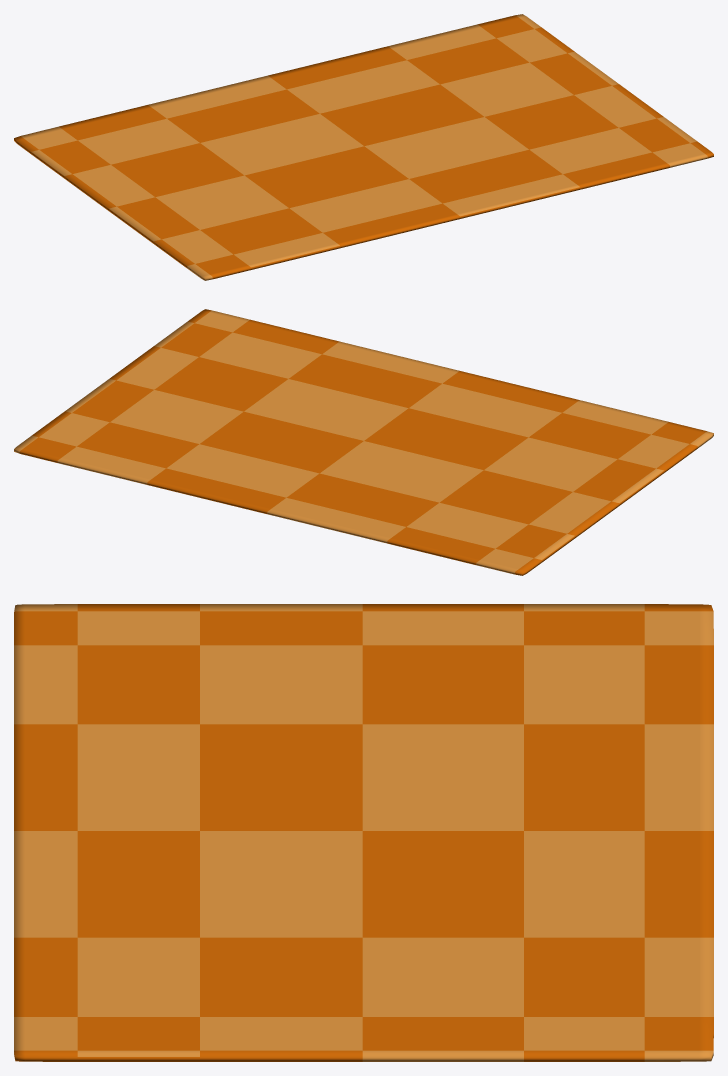
The model's file is Rug.fbx.
3 views of the same model, one above another, from view 1: azimuth 30°, elevation 25°; view 2: azimuth 150°, elevation 25°; view 3: azimuth 270°, elevation 25° (orthographic). The views are drawn at different scales.
Visible parts, largest first — view 1: Rug; view 2: Rug; view 3: Rug.
Boxes of the visible parts, bbox=[...] form: Rug: bbox=[14, 14, 713, 280]; Rug: bbox=[14, 309, 713, 575]; Rug: bbox=[14, 604, 713, 1061].
Bounding box in the file's own units: 341 × 1.71 × 223.
